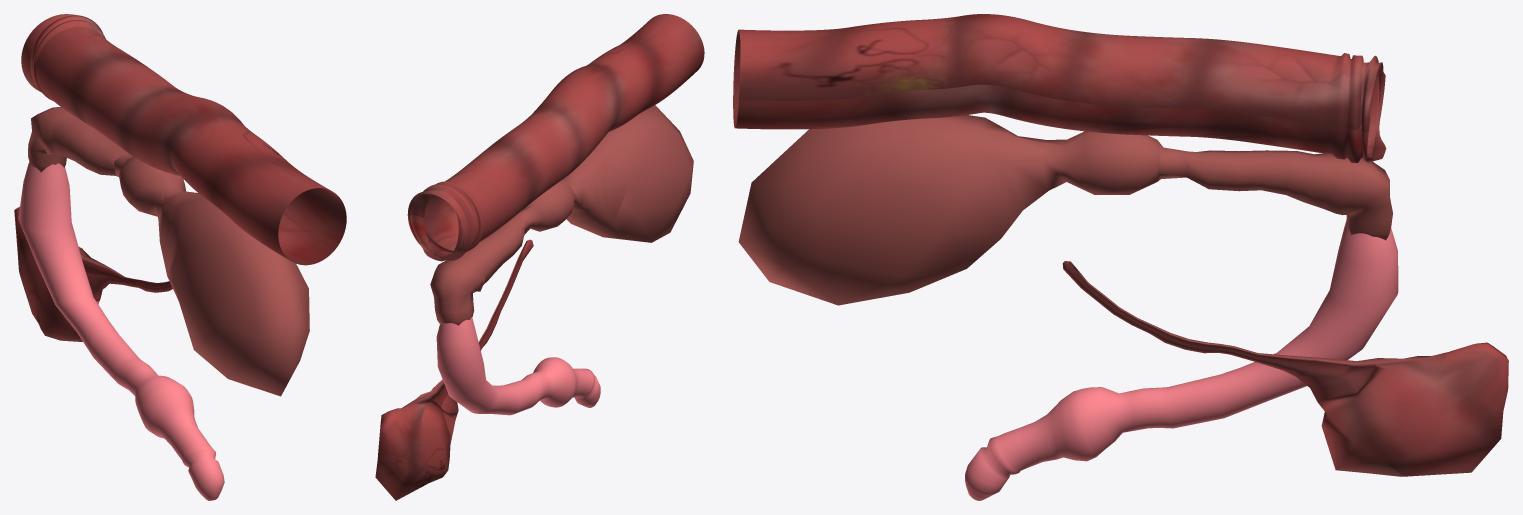
The model's file is reproductive.glb.
3 renders of one model, left to right at view 1: azimuth 30°, elevation 25°; view 2: azimuth 150°, elevation 25°; view 3: azimuth 270°, elevation 25°, orthographic. The views are drawn at different scales.
Parts seen in each view (by area): view 1: colon_rectum, urinary_bladder, Cylinder, testicle, prostate_gland; view 2: colon_rectum, urinary_bladder, Cylinder, testicle, prostate_gland; view 3: colon_rectum, urinary_bladder, testicle, Cylinder, prostate_gland.
Part boxes in pixels (x1,y1,x2,y2): colon_rectum: [21, 14, 346, 265]; urinary_bladder: [28, 107, 309, 396]; Cylinder: [18, 161, 224, 500]; testicle: [14, 207, 172, 341]; prostate_gland: [114, 153, 186, 221]; colon_rectum: [407, 14, 704, 261]; urinary_bladder: [430, 105, 693, 325]; Cylinder: [436, 317, 600, 415]; testicle: [375, 239, 533, 500]; prostate_gland: [516, 174, 582, 234]; colon_rectum: [733, 14, 1386, 162]; urinary_bladder: [738, 115, 1392, 305]; testicle: [1062, 261, 1508, 476]; Cylinder: [965, 221, 1398, 500]; prostate_gland: [1041, 131, 1187, 194].
Size of the model in its own units: 0.6928 by 2.32 by 3.4.
4 materials, 4 textured.
